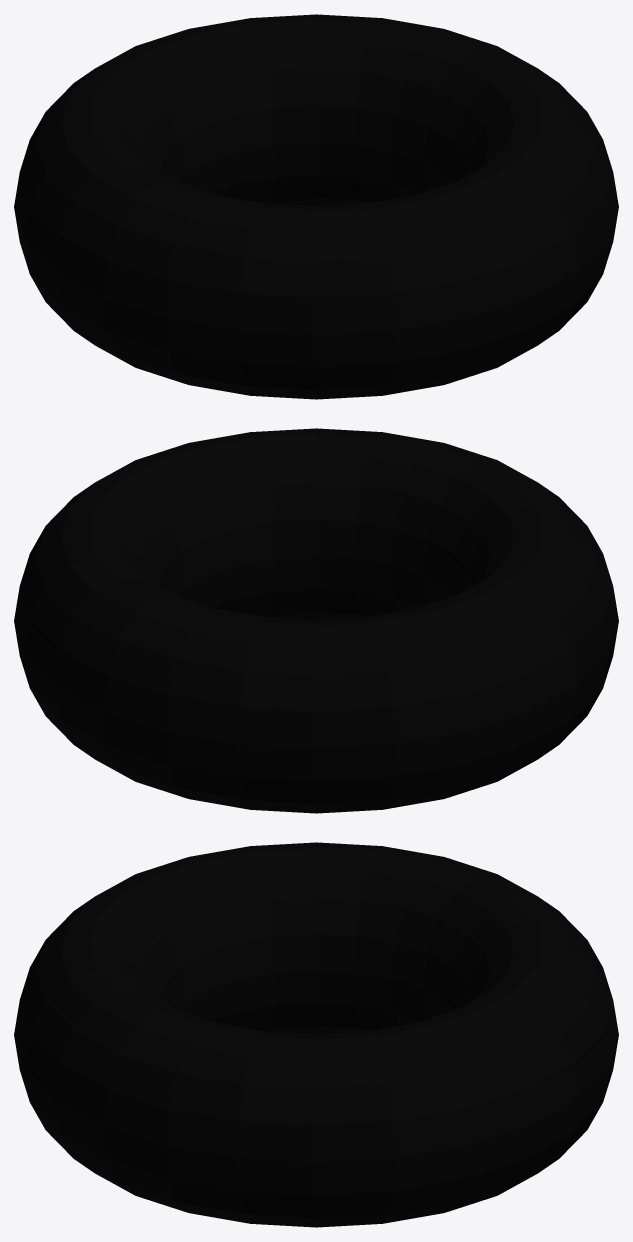
File: tire.glb
The picture shows the model from 3 angles, top to bottom: view 1: azimuth 30°, elevation 25°; view 2: azimuth 150°, elevation 25°; view 3: azimuth 270°, elevation 25°; orthographic projection.
Visible parts, largest first — view 1: node_id5; view 2: node_id5; view 3: node_id5.
Boxes of the visible parts, bbox=[...] form: node_id5: bbox=[14, 14, 618, 399]; node_id5: bbox=[14, 428, 618, 813]; node_id5: bbox=[14, 842, 618, 1227].
Bounding box in the file's own units: 0.512 × 0.1707 × 0.512.
Materials: 1 (1 with a texture image).
